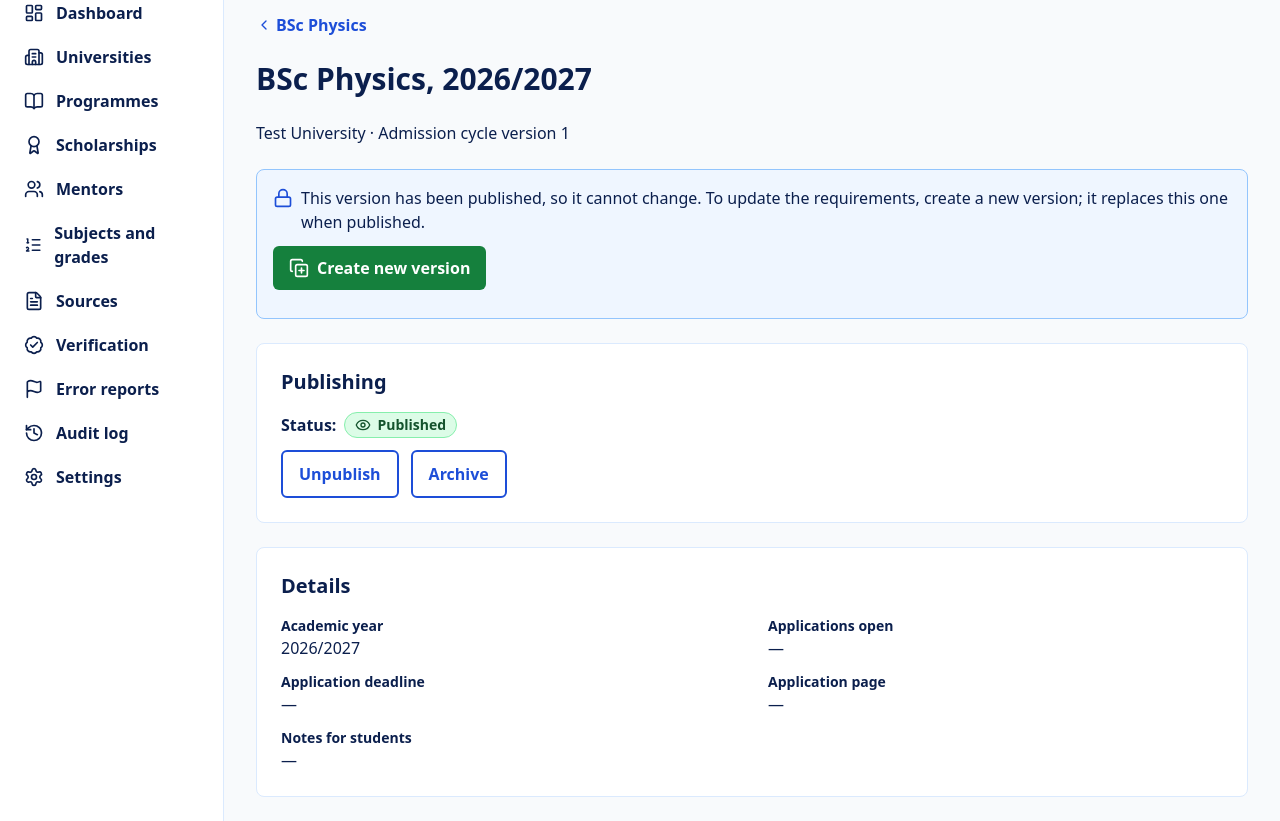
Test: admission cycle rule builder › shows a published version read-only and offers a new version
Expected: the text "This version has been published" is shown, 301,187 -> 1228,233
Expected: the button "Unpublish" is shown, 281,450 -> 399,498
Click the button "Create new version" at (380, 268), box 273,246 -> 486,290
(page scrolled)
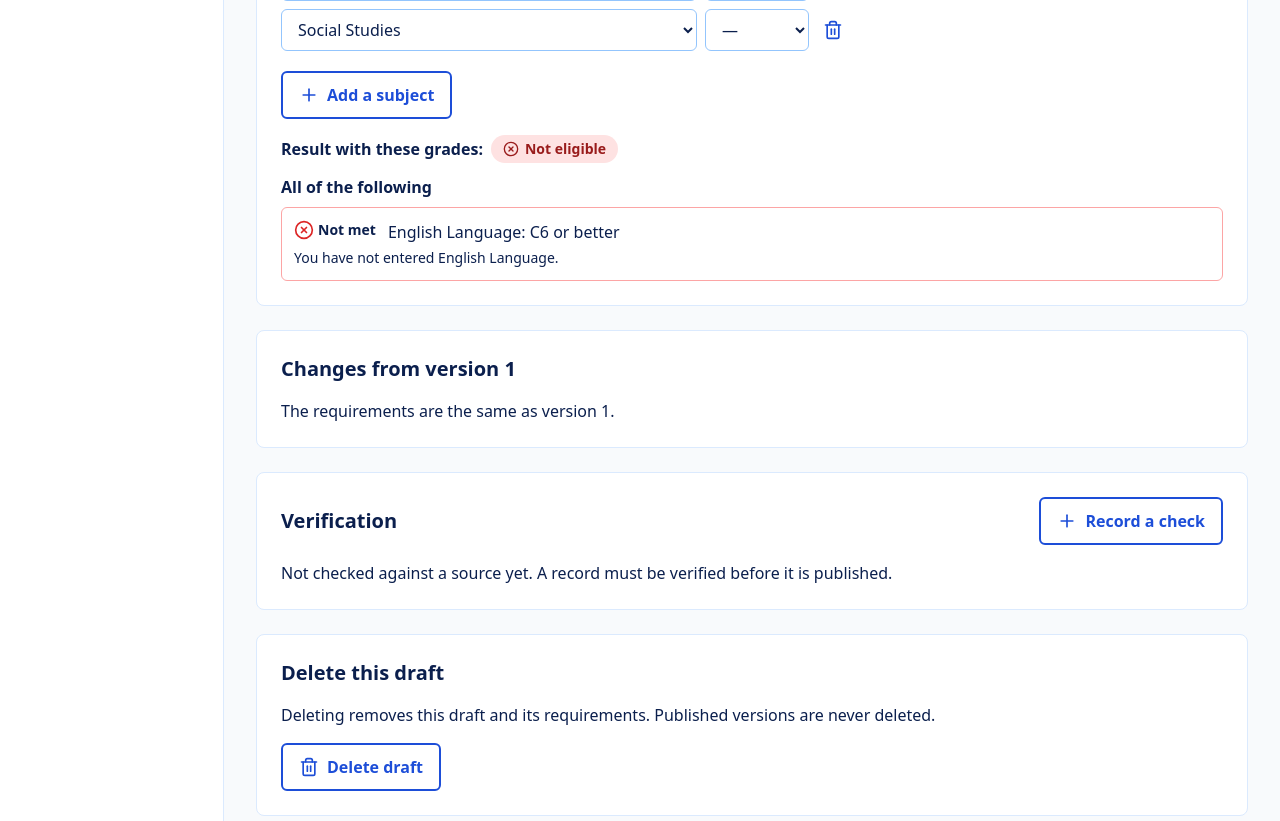
Expected: the heading "Changes from version 1" is shown, 281,355 -> 516,383
Expected: the text "The requirements are the same as version 1." is shown, 281,400 -> 614,422
